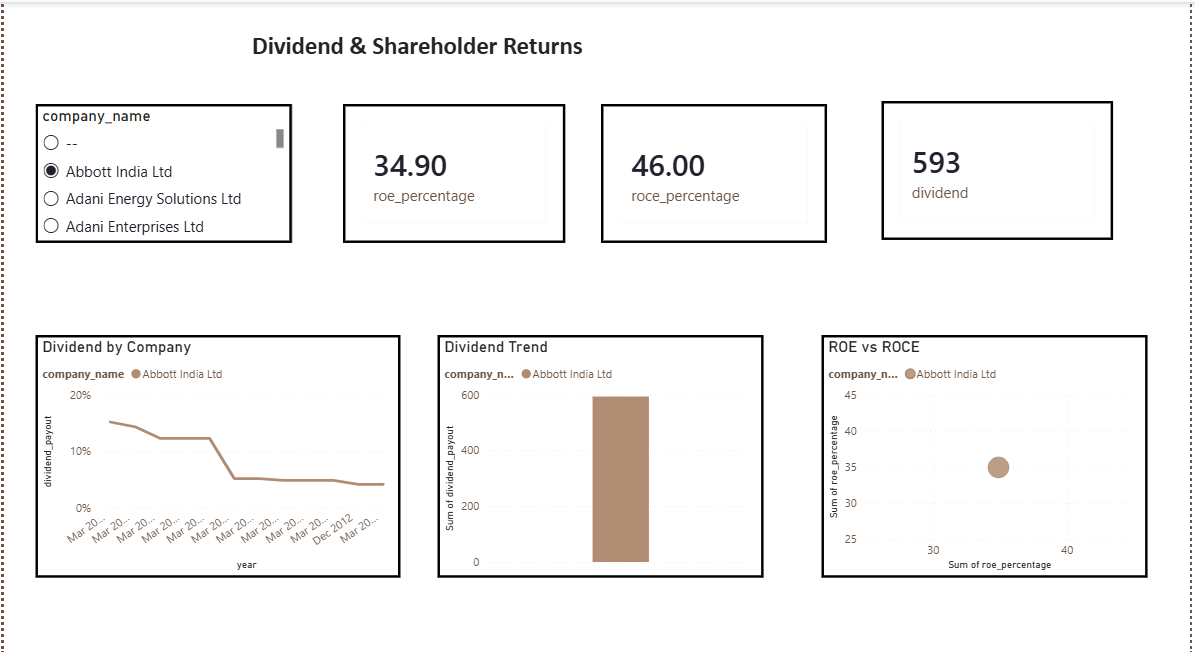

The dashboard page shown, as its layout file describes it:
{"tool":"powerbi","page":{"name":"Dividend Analysis","canvas":[1280,720],"ordinal":6},"visuals":[{"type":"textbox","box":[10,25.7,872.9,80],"z":0},{"type":"listSlicer","fields":{"Values":["Companies  |  92 records (Companies).company_name"]},"box":[33.3,110,276.7,150],"z":1000},{"type":"cardVisual","fields":{"Data":["Sum(Companies  |  92 records (Companies).roe_percentage)"]},"box":[366.7,110,240,150],"z":2000},{"type":"cardVisual","fields":{"Data":["Sum(Companies  |  92 records (Companies).roce_percentage)"]},"box":[644,110,244,150],"z":3000},{"type":"cardVisual","fields":{"Data":["Sum(Profit & Loss  |  1,276 records (Profit & Loss.dividend_payout)"]},"box":[946.7,106.7,250,150],"z":4000},{"type":"columnChart","title":"Dividend Trend","fields":{"Y":["Sum(Profit & Loss  |  1,276 records (Profit & Loss.dividend_payout)"],"Series":["Companies  |  92 records (Companies).company_name"]},"box":[468,360,352,262],"z":5000},{"type":"lineChart","title":"Dividend by Company","fields":{"Category":["Profit & Loss  |  1,276 records (Profit & Loss.year"],"Y":["Sum(Profit & Loss  |  1,276 records (Profit & Loss.dividend_payout)"],"Series":["Companies  |  92 records (Companies).company_name"]},"box":[34,360,394,262],"z":6000},{"type":"scatterChart","title":"ROE vs ROCE","fields":{"X":["Sum(Companies  |  92 records (Companies).roe_percentage)"],"Y":["Sum(Companies  |  92 records (Companies).roe_percentage)"],"Series":["Companies  |  92 records (Companies).company_name"],"Size":["Sum(Profit & Loss  |  1,276 records (Profit & Loss.net_profit)"]},"box":[882,360,352,262],"z":7000}]}

Visuals, with their boxes in screenshot pixels (x1, y1, x2, y2):
textbox: 9 24 819 98
listSlicer - Companies  |  92 records (Companies).company_name: 31 102 288 241
cardVisual - Sum(Companies  |  92 records (Companies).roe_percentage): 340 102 563 241
cardVisual - Sum(Companies  |  92 records (Companies).roce_percentage): 598 102 824 241
cardVisual - Sum(Profit & Loss  |  1,276 records (Profit & Loss.dividend_payout): 879 99 1111 238
"Dividend Trend" columnChart: 434 334 761 577
"Dividend by Company" lineChart: 32 334 397 577
"ROE vs ROCE" scatterChart: 819 334 1145 577
